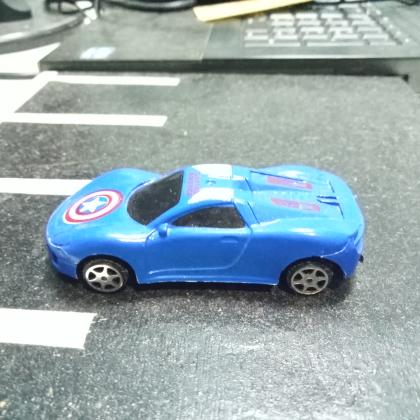Car: (42, 158, 366, 296)
